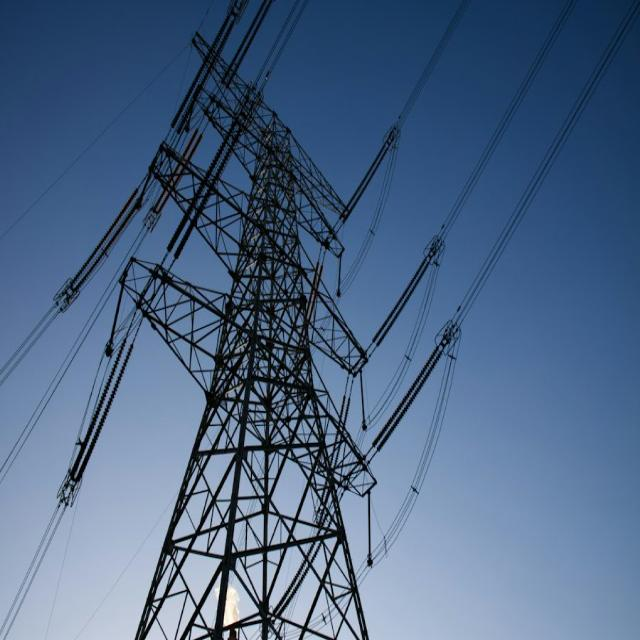transmission tower: (118, 5, 432, 640)
